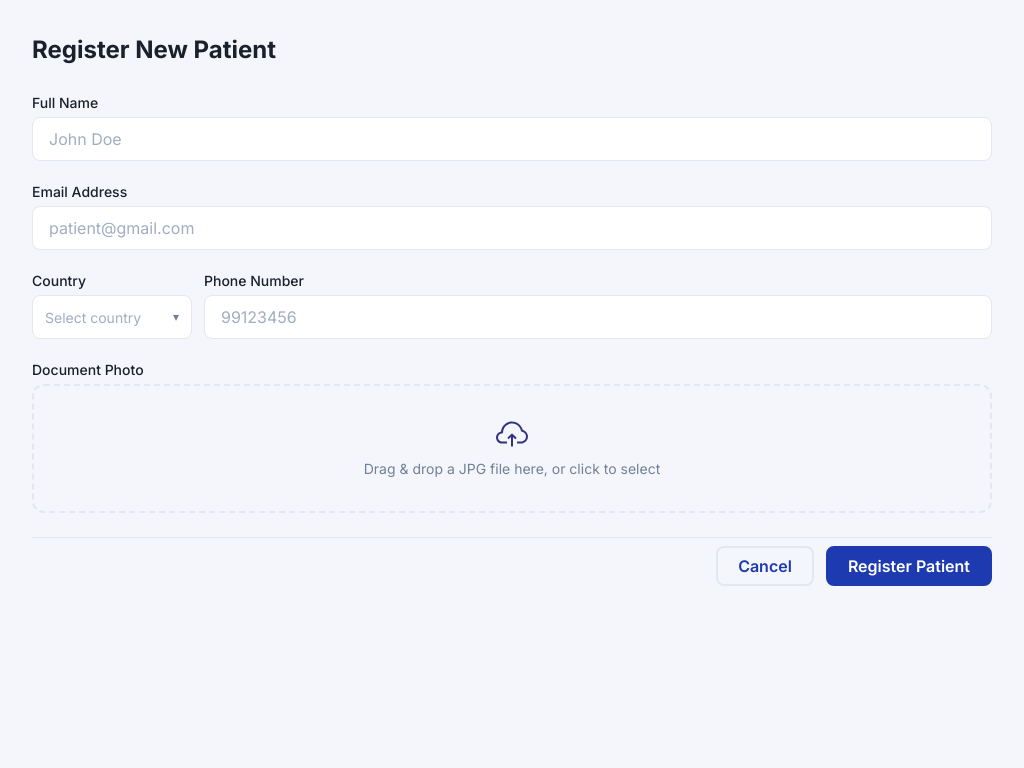
Test: PatientForm › shows all required field errors on empty submit
Click the button "Register Patient". click: (909, 566)
box: [826,546,992,586]
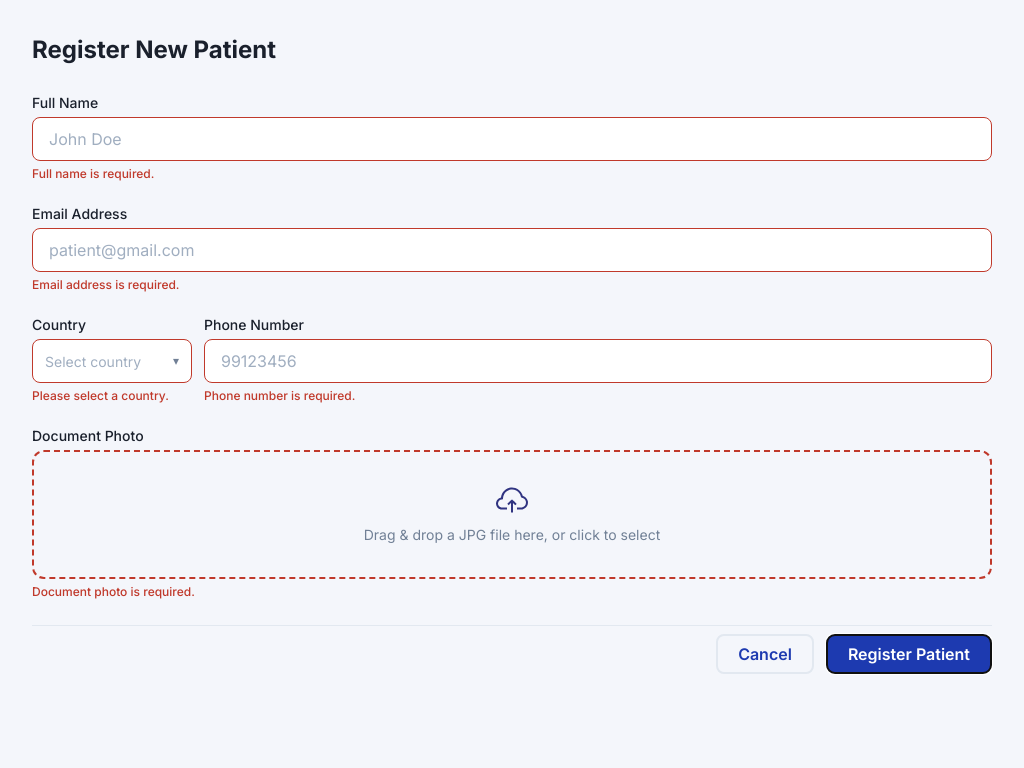
Result: the text "Full name is required." is shown at [32,166,154,181]
Result: the text "Email address is required." is shown at [32,277,180,292]
Result: the text "Please select a country." is shown at [32,387,192,405]
